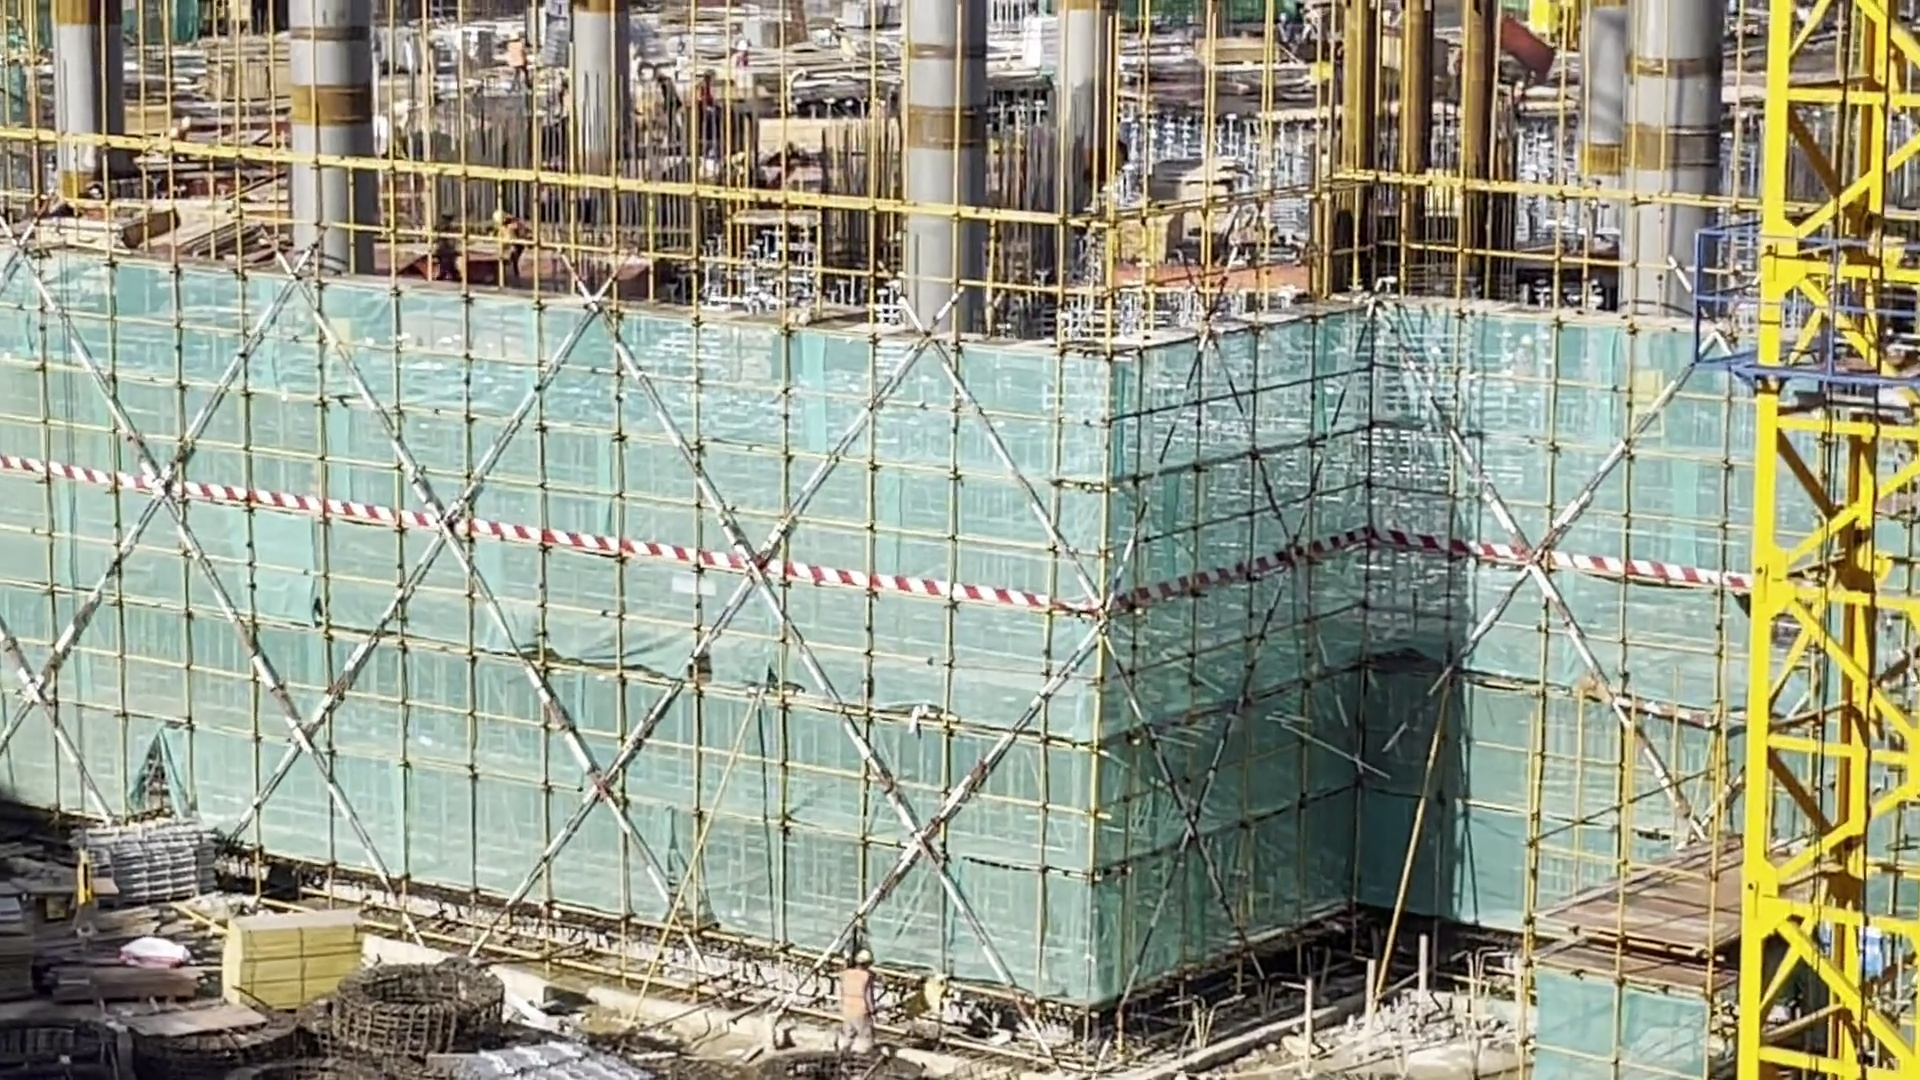board: (225, 911, 361, 1001)
ebox: (1529, 1, 1561, 35)
person: (840, 953, 882, 1049), (490, 208, 525, 268), (509, 27, 523, 91)
scaffold: (98, 831, 220, 901), (467, 1046, 635, 1080)
